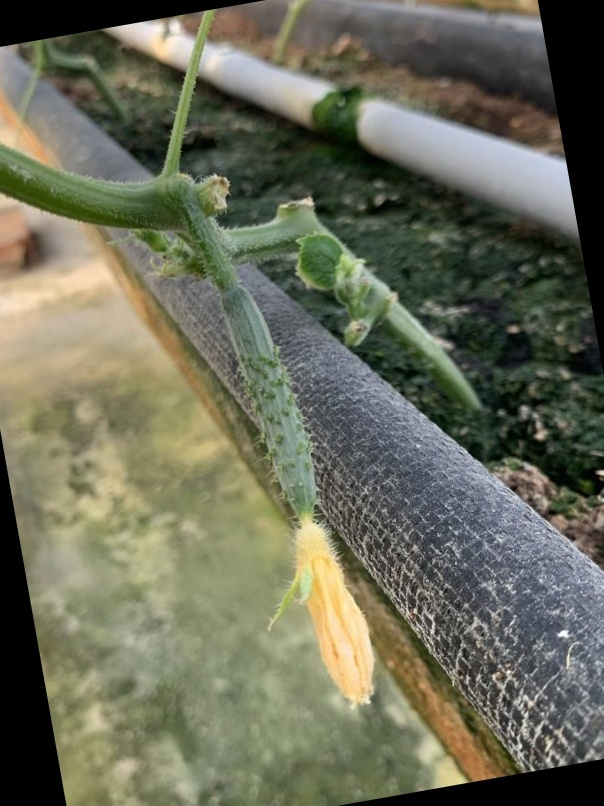bear: (211, 276, 387, 713)
